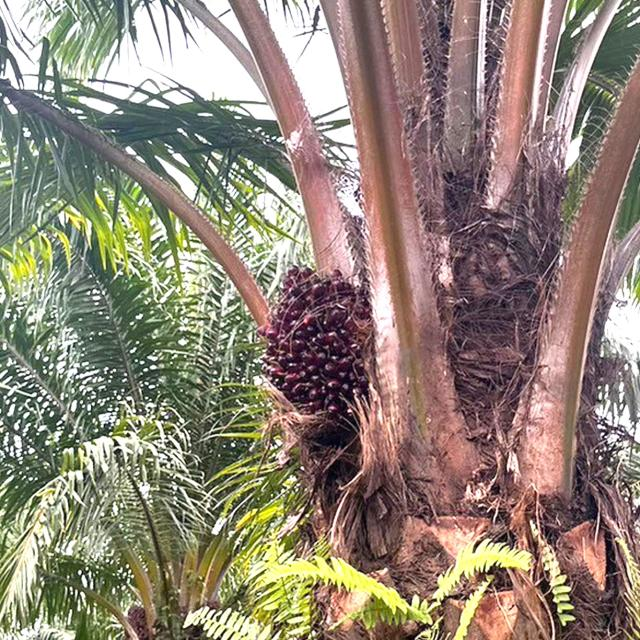ripe: (252, 245, 374, 422)
